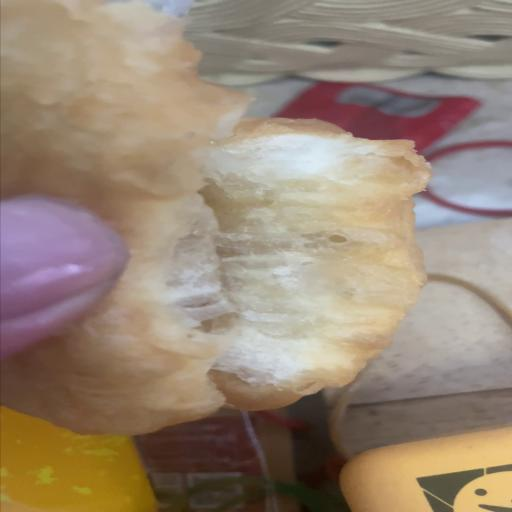street_golden_defect: (1, 41, 428, 434)
